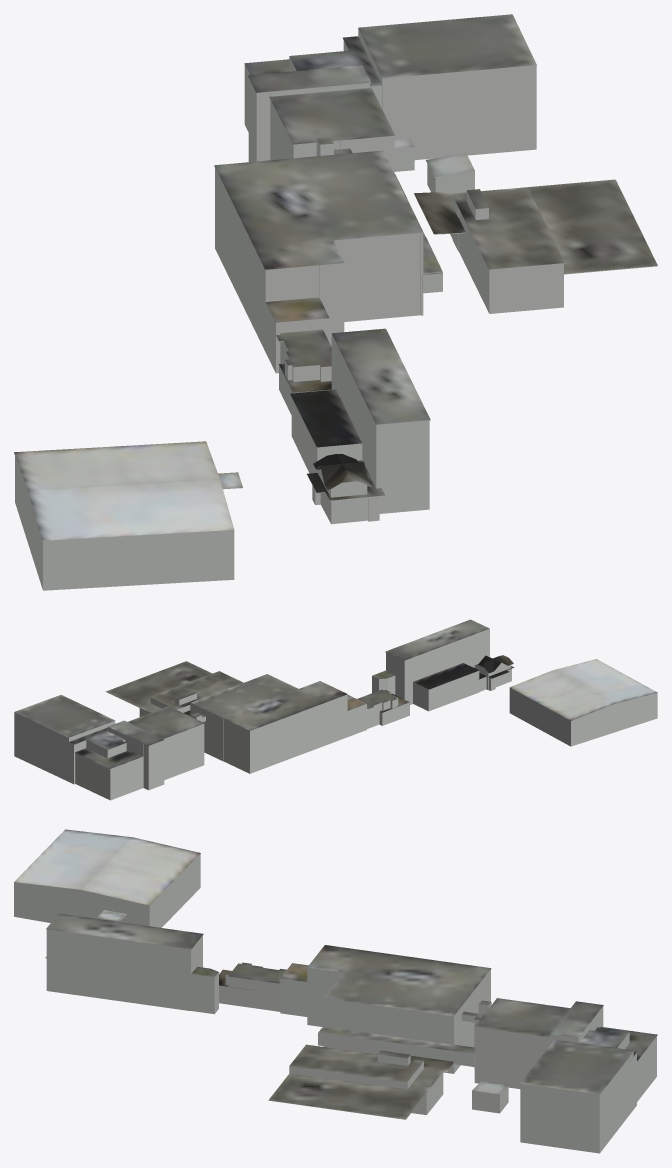
Rendered from LSME_1_0.glb.
The picture shows the model from 3 angles, top to bottom: view 1: azimuth 30°, elevation 25°; view 2: azimuth 150°, elevation 25°; view 3: azimuth 270°, elevation 25°; orthographic projection. The views are drawn at different scales.
Parts seen in each view (by area): view 1: building_d68d13856380642d, building_352df86a9ca70bab, building_9fce405081699c24, building_605efc0c8047cdcd; view 2: building_352df86a9ca70bab, building_d68d13856380642d, building_605efc0c8047cdcd, building_9fce405081699c24; view 3: building_d68d13856380642d, building_352df86a9ca70bab, building_605efc0c8047cdcd, building_9fce405081699c24.
Boxes of the visible parts, <box> form: building_d68d13856380642d: <box>214,14,657,274</box>; building_352df86a9ca70bab: <box>215,29,563,351</box>; building_9fce405081699c24: <box>14,297,430,541</box>; building_605efc0c8047cdcd: <box>15,303,429,590</box>; building_352df86a9ca70bab: <box>14,693,347,800</box>; building_d68d13856380642d: <box>14,661,347,769</box>; building_605efc0c8047cdcd: <box>347,629,657,746</box>; building_9fce405081699c24: <box>347,619,657,720</box>; building_d68d13856380642d: <box>268,945,657,1119</box>; building_352df86a9ca70bab: <box>289,968,656,1153</box>; building_605efc0c8047cdcd: <box>14,854,307,1016</box>; building_9fce405081699c24: <box>14,829,308,991</box>.
Size of the model in its own units: 283 by 28.76 by 265.
2 materials, 1 textured.
